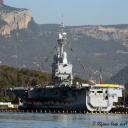Portanaves: (8, 11, 127, 115)
